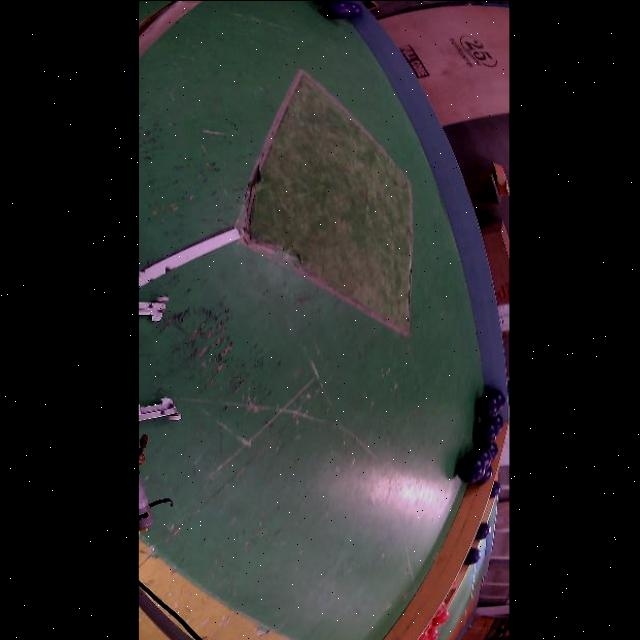B: (457, 453, 485, 482), (475, 393, 500, 417), (473, 420, 497, 443), (469, 445, 491, 469), (480, 442, 499, 461), (488, 389, 506, 409), (488, 413, 504, 435), (477, 465, 493, 484), (464, 547, 481, 564), (475, 522, 491, 538), (490, 480, 500, 497)
P: (321, 0, 352, 18), (348, 2, 362, 17), (312, 0, 334, 3)
